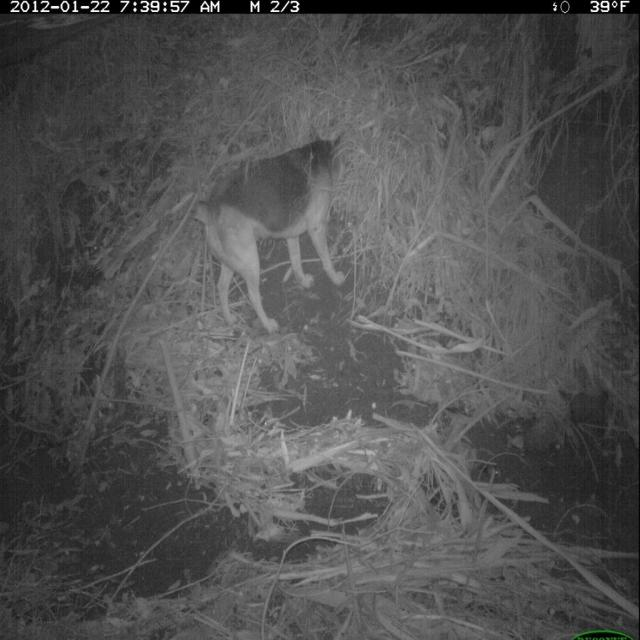dog: (186, 126, 355, 344)
